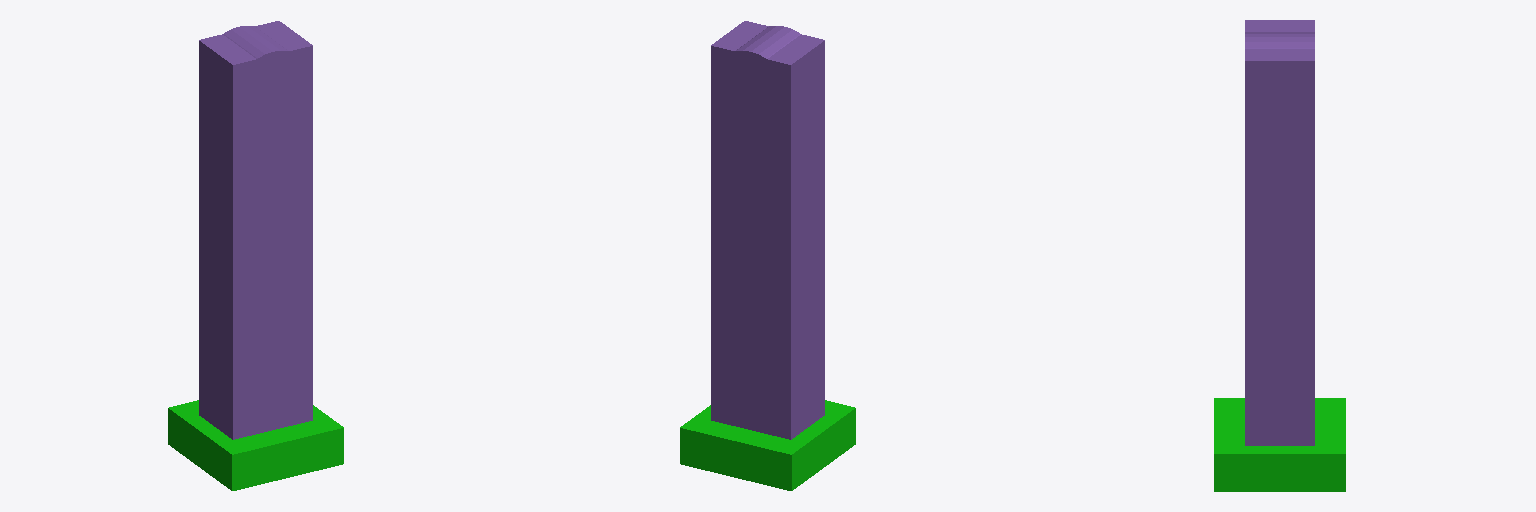
robot.urdf — abondance_finger:
<?xml version='1.0' encoding='utf-8'?>
<robot name="abondance_finger">
  <link name="base_link">
    <visual>
      <origin rpy="0 0 0" xyz="0 0 0.1" />
      <geometry>
        <box size="0.64 0.64 0.2" />
      </geometry>
      <material name="green">
        <color rgba="0.1 0.8 0.1 1.0" />
      </material>
    </visual>
    <collision>
      <origin rpy="0 0 0" xyz="0 0 0.1" />
      <geometry>
        <box size="0.64 0.64 0.2" />
      </geometry>
    </collision>
    <inertial>
      <mass value="0.6" />
      <inertia ixx="1" ixy="0" ixz="0" iyy="1" iyz="0" izz="1" />
    </inertial>
  </link>
  <link name="act0Seg0">
    <visual>
      <origin rpy="0 0 0" xyz="0 0 0.05" />
      <geometry>
        <box size="0.46 0.34 0.2" />
      </geometry>
      <material name="purple">
        <color rgba="0.537255 0.407843 0.690196 1.0" />
      </material>
    </visual>
    <collision>
      <origin rpy="0 0 0" xyz="0 0 0.05" />
      <geometry>
        <box size="0.46 0.34 0.2" />
      </geometry>
    </collision>
    <inertial>
      <mass value="0.00294" />
      <inertia ixx="0.0152488" ixy="0" ixz="0" iyy="0.0152488" iyz="0" izz="0.0152488" />
    </inertial>
  </link>
  <joint name="base_link_to_act0Seg0" type="fixed">
    <parent link="base_link" />
    <child link="act0Seg0" />
    <origin rpy="0 0 0" xyz="0 0 0.2" />
    <axis xyz="1 0 0" />
  </joint>
  <link name="act0Seg0helper_shape">
    <visual>
      <origin rpy="0 -1.5707963267948966 0" xyz="0 0 0.06" />
      <geometry>
        <cylinder length="0.46" radius="0.17" />
      </geometry>
      <material name="purple">
        <color rgba="0.537255 0.407843 0.690196 1.0" />
      </material>
    </visual>
    <collision>
      <origin rpy="0 -1.5707963267948966 0" xyz="0 0 0.06" />
      <geometry>
        <cylinder length="0.46" radius="0.17" />
      </geometry>
    </collision>
    <inertial>
      <mass value="2.94e-06" />
      <inertia ixx="1.52488e-05" ixy="0.0" ixz="0.0" iyy="1.52488e-05" iyz="0.0" izz="1.52488e-05" />
    </inertial>
  </link>
  <joint name="base_link_to_act0Seg0helper_shape" type="fixed">
    <parent link="base_link" />
    <child link="act0Seg0helper_shape" />
    <origin rpy="0 0 0" xyz="0 0 0.2" />
    <axis xyz="1 0 0" />
  </joint>
  <link name="act0Seg1">
    <visual>
      <origin rpy="0.0 0.0 0.0" xyz="0.0 -0.12 0.1" />
      <geometry>
        <box size="0.46 0.34 0.2" />
      </geometry>
      <material name="purple">
        <color rgba="0.537255 0.407843 0.690196 1.0" />
      </material>
    </visual>
    <collision>
      <origin rpy="0.0 0.0 0.0" xyz="0.0 -0.12 0.1" />
      <geometry>
        <box size="0.46 0.34 0.2" />
      </geometry>
    </collision>
    <inertial>
      <mass value="0.00294" />
      <inertia ixx="0.0152488" ixy="0" ixz="0" iyy="0.0152488" iyz="0" izz="0.0152488" />
    </inertial>
  </link>
  <joint name="act0Seg0_to_act0Seg1_ax0" type="revolute">
    <parent link="act0Seg0" />
    <child link="act0Seg1" />
    <origin rpy="0.0 0.0 0.0" xyz="0.0 0.12 0.1" />
    <axis xyz="1 0 0" />
    <limit effort="100" lower="-3.141592" upper="3.141592" velocity="3" />
  </joint>
  <link name="act0Seg1helper_shape">
    <visual>
      <origin rpy="0 -1.5707963267948966 0" xyz="0 0 0.06" />
      <geometry>
        <cylinder length="0.46" radius="0.17" />
      </geometry>
      <material name="purple">
        <color rgba="0.537255 0.407843 0.690196 1.0" />
      </material>
    </visual>
    <collision>
      <origin rpy="0 -1.5707963267948966 0" xyz="0 0 0.06" />
      <geometry>
        <cylinder length="0.46" radius="0.17" />
      </geometry>
    </collision>
    <inertial>
      <mass value="2.94e-06" />
      <inertia ixx="1.52488e-05" ixy="0.0" ixz="0.0" iyy="1.52488e-05" iyz="0.0" izz="1.52488e-05" />
    </inertial>
  </link>
  <joint name="act0Seg0_to_act0Seg1_ax0helper_shape" type="fixed">
    <parent link="act0Seg0" />
    <child link="act0Seg1helper_shape" />
    <origin rpy="0 0 0" xyz="0 0 0.1" />
    <axis xyz="1 0 0" />
  </joint>
  <link name="act0Seg2">
    <visual>
      <origin rpy="0 0 0" xyz="0 0 0.1" />
      <geometry>
        <box size="0.46 0.34 0.2" />
      </geometry>
      <material name="purple">
        <color rgba="0.537255 0.407843 0.690196 1.0" />
      </material>
    </visual>
    <collision>
      <origin rpy="0 0 0" xyz="0 0 0.1" />
      <geometry>
        <box size="0.46 0.34 0.2" />
      </geometry>
    </collision>
    <inertial>
      <mass value="0.00294" />
      <inertia ixx="0.0152488" ixy="0" ixz="0" iyy="0.0152488" iyz="0" izz="0.0152488" />
    </inertial>
  </link>
  <joint name="act0Seg1_to_act0Seg2_ax1" type="revolute">
    <parent link="act0Seg1" />
    <child link="act0Seg2" />
    <origin rpy="0.0 0.0 0.0" xyz="0.0 -0.12 0.2" />
    <axis xyz="0 1 0" />
    <limit effort="100" lower="-3.141592" upper="3.141592" velocity="3" />
  </joint>
  <link name="act0Seg2helper_shape">
    <visual>
      <origin rpy="-1.5707963267948966 0 0" xyz="0 0 -0.06" />
      <geometry>
        <cylinder length="0.34" radius="0.23" />
      </geometry>
      <material name="purple">
        <color rgba="0.537255 0.407843 0.690196 1.0" />
      </material>
    </visual>
    <collision>
      <origin rpy="-1.5707963267948966 0 0" xyz="0 0 -0.06" />
      <geometry>
        <cylinder length="0.34" radius="0.23" />
      </geometry>
    </collision>
    <inertial>
      <mass value="2.94e-06" />
      <inertia ixx="1.52488e-05" ixy="0.0" ixz="0.0" iyy="1.52488e-05" iyz="0.0" izz="1.52488e-05" />
    </inertial>
  </link>
  <joint name="act0Seg1_to_act0Seg2_ax1helper_shape" type="fixed">
    <parent link="act0Seg1" />
    <child link="act0Seg2helper_shape" />
    <origin rpy="0.0 0.0 0.0" xyz="0.0 -0.12 0.2" />
    <axis xyz="1 0 0" />
  </joint>
  <link name="act0Seg3">
    <visual>
      <origin rpy="0.0 0.0 0.0" xyz="0.0 -0.12 0.1" />
      <geometry>
        <box size="0.46 0.34 0.2" />
      </geometry>
      <material name="purple">
        <color rgba="0.537255 0.407843 0.690196 1.0" />
      </material>
    </visual>
    <collision>
      <origin rpy="0.0 0.0 0.0" xyz="0.0 -0.12 0.1" />
      <geometry>
        <box size="0.46 0.34 0.2" />
      </geometry>
    </collision>
    <inertial>
      <mass value="0.00294" />
      <inertia ixx="0.0152488" ixy="0" ixz="0" iyy="0.0152488" iyz="0" izz="0.0152488" />
    </inertial>
  </link>
  <joint name="act0Seg2_to_act0Seg3_ax0" type="revolute">
    <parent link="act0Seg2" />
    <child link="act0Seg3" />
    <origin rpy="0.0 0.0 0.0" xyz="0.0 0.12 0.2" />
    <axis xyz="1 0 0" />
    <limit effort="100" lower="-3.141592" upper="3.141592" velocity="3" />
  </joint>
  <link name="act0Seg3helper_shape">
    <visual>
      <origin rpy="0 -1.5707963267948966 0" xyz="0 0 0.06" />
      <geometry>
        <cylinder length="0.46" radius="0.17" />
      </geometry>
      <material name="purple">
        <color rgba="0.537255 0.407843 0.690196 1.0" />
      </material>
    </visual>
    <collision>
      <origin rpy="0 -1.5707963267948966 0" xyz="0 0 0.06" />
      <geometry>
        <cylinder length="0.46" radius="0.17" />
      </geometry>
    </collision>
    <inertial>
      <mass value="2.94e-06" />
      <inertia ixx="1.52488e-05" ixy="0.0" ixz="0.0" iyy="1.52488e-05" iyz="0.0" izz="1.52488e-05" />
    </inertial>
  </link>
  <joint name="act0Seg2_to_act0Seg3_ax0helper_shape" type="fixed">
    <parent link="act0Seg2" />
    <child link="act0Seg3helper_shape" />
    <origin rpy="0 0 0" xyz="0 0 0.2" />
    <axis xyz="1 0 0" />
  </joint>
  <link name="act0Seg4">
    <visual>
      <origin rpy="0 0 0" xyz="0 0 0.1" />
      <geometry>
        <box size="0.46 0.34 0.2" />
      </geometry>
      <material name="purple">
        <color rgba="0.537255 0.407843 0.690196 1.0" />
      </material>
    </visual>
    <collision>
      <origin rpy="0 0 0" xyz="0 0 0.1" />
      <geometry>
        <box size="0.46 0.34 0.2" />
      </geometry>
    </collision>
    <inertial>
      <mass value="0.00294" />
      <inertia ixx="0.0152488" ixy="0" ixz="0" iyy="0.0152488" iyz="0" izz="0.0152488" />
    </inertial>
  </link>
  <joint name="act0Seg3_to_act0Seg4_ax1" type="revolute">
    <parent link="act0Seg3" />
    <child link="act0Seg4" />
    <origin rpy="0.0 0.0 0.0" xyz="0.0 -0.12 0.2" />
    <axis xyz="0 1 0" />
    <limit effort="100" lower="-3.141592" upper="3.141592" velocity="3" />
  </joint>
  <link name="act0Seg4helper_shape">
    <visual>
      <origin rpy="-1.5707963267948966 0 0" xyz="0 0 -0.06" />
      <geometry>
        <cylinder length="0.34" radius="0.23" />
      </geometry>
      <material name="purple">
        <color rgba="0.537255 0.407843 0.690196 1.0" />
      </material>
    </visual>
    <collision>
      <origin rpy="-1.5707963267948966 0 0" xyz="0 0 -0.06" />
      <geometry>
        <cylinder length="0.34" radius="0.23" />
      </geometry>
    </collision>
    <inertial>
      <mass value="2.94e-06" />
      <inertia ixx="1.52488e-05" ixy="0.0" ixz="0.0" iyy="1.52488e-05" iyz="0.0" izz="1.52488e-05" />
    </inertial>
  </link>
  <joint name="act0Seg3_to_act0Seg4_ax1helper_shape" type="fixed">
    <parent link="act0Seg3" />
    <child link="act0Seg4helper_shape" />
    <origin rpy="0.0 0.0 0.0" xyz="0.0 -0.12 0.2" />
    <axis xyz="1 0 0" />
  </joint>
  <link name="act0Seg5">
    <visual>
      <origin rpy="0.0 0.0 0.0" xyz="0.0 -0.12 0.1" />
      <geometry>
        <box size="0.46 0.34 0.2" />
      </geometry>
      <material name="purple">
        <color rgba="0.537255 0.407843 0.690196 1.0" />
      </material>
    </visual>
    <collision>
      <origin rpy="0.0 0.0 0.0" xyz="0.0 -0.12 0.1" />
      <geometry>
        <box size="0.46 0.34 0.2" />
      </geometry>
    </collision>
    <inertial>
      <mass value="0.00294" />
      <inertia ixx="0.0152488" ixy="0" ixz="0" iyy="0.0152488" iyz="0" izz="0.0152488" />
    </inertial>
  </link>
  <joint name="act0Seg4_to_act0Seg5_ax0" type="revolute">
    <parent link="act0Seg4" />
    <child link="act0Seg5" />
    <origin rpy="0.0 0.0 0.0" xyz="0.0 0.12 0.2" />
    <axis xyz="1 0 0" />
    <limit effort="100" lower="-3.141592" upper="3.141592" velocity="3" />
  </joint>
  <link name="act0Seg5helper_shape">
    <visual>
      <origin rpy="0 -1.5707963267948966 0" xyz="0 0 0.06" />
      <geometry>
        <cylinder length="0.46" radius="0.17" />
      </geometry>
      <material name="purple">
        <color rgba="0.537255 0.407843 0.690196 1.0" />
      </material>
    </visual>
    <collision>
      <origin rpy="0 -1.5707963267948966 0" xyz="0 0 0.06" />
      <geometry>
        <cylinder length="0.46" radius="0.17" />
      </geometry>
    </collision>
    <inertial>
      <mass value="2.94e-06" />
      <inertia ixx="1.52488e-05" ixy="0.0" ixz="0.0" iyy="1.52488e-05" iyz="0.0" izz="1.52488e-05" />
    </inertial>
  </link>
  <joint name="act0Seg4_to_act0Seg5_ax0helper_shape" type="fixed">
    <parent link="act0Seg4" />
    <child link="act0Seg5helper_shape" />
    <origin rpy="0 0 0" xyz="0 0 0.2" />
    <axis xyz="1 0 0" />
  </joint>
  <link name="act0Seg6">
    <visual>
      <origin rpy="0 0 0" xyz="0 0 0.1" />
      <geometry>
        <box size="0.46 0.34 0.2" />
      </geometry>
      <material name="purple">
        <color rgba="0.537255 0.407843 0.690196 1.0" />
      </material>
    </visual>
    <collision>
      <origin rpy="0 0 0" xyz="0 0 0.1" />
      <geometry>
        <box size="0.46 0.34 0.2" />
      </geometry>
    </collision>
    <inertial>
      <mass value="0.00294" />
      <inertia ixx="0.0152488" ixy="0" ixz="0" iyy="0.0152488" iyz="0" izz="0.0152488" />
    </inertial>
  </link>
  <joint name="act0Seg5_to_act0Seg6_ax1" type="revolute">
    <parent link="act0Seg5" />
    <child link="act0Seg6" />
    <origin rpy="0.0 0.0 0.0" xyz="0.0 -0.12 0.2" />
    <axis xyz="0 1 0" />
    <limit effort="100" lower="-3.141592" upper="3.141592" velocity="3" />
  </joint>
  <link name="act0Seg6helper_shape">
    <visual>
      <origin rpy="-1.5707963267948966 0 0" xyz="0 0 -0.06" />
      <geometry>
        <cylinder length="0.34" radius="0.23" />
      </geometry>
      <material name="purple">
        <color rgba="0.537255 0.407843 0.690196 1.0" />
      </material>
    </visual>
    <collision>
      <origin rpy="-1.5707963267948966 0 0" xyz="0 0 -0.06" />
      <geometry>
        <cylinder length="0.34" radius="0.23" />
      </geometry>
    </collision>
    <inertial>
      <mass value="2.94e-06" />
      <inertia ixx="1.52488e-05" ixy="0.0" ixz="0.0" iyy="1.52488e-05" iyz="0.0" izz="1.52488e-05" />
    </inertial>
  </link>
  <joint name="act0Seg5_to_act0Seg6_ax1helper_shape" type="fixed">
    <parent link="act0Seg5" />
    <child link="act0Seg6helper_shape" />
    <origin rpy="0.0 0.0 0.0" xyz="0.0 -0.12 0.2" />
    <axis xyz="1 0 0" />
  </joint>
  <link name="act0Seg7">
    <visual>
      <origin rpy="0.0 0.0 0.0" xyz="0.0 -0.12 0.1" />
      <geometry>
        <box size="0.46 0.34 0.2" />
      </geometry>
      <material name="purple">
        <color rgba="0.537255 0.407843 0.690196 1.0" />
      </material>
    </visual>
    <collision>
      <origin rpy="0.0 0.0 0.0" xyz="0.0 -0.12 0.1" />
      <geometry>
        <box size="0.46 0.34 0.2" />
      </geometry>
    </collision>
    <inertial>
      <mass value="0.00294" />
      <inertia ixx="0.0152488" ixy="0" ixz="0" iyy="0.0152488" iyz="0" izz="0.0152488" />
    </inertial>
  </link>
  <joint name="act0Seg6_to_act0Seg7_ax0" type="revolute">
    <parent link="act0Seg6" />
    <child link="act0Seg7" />
    <origin rpy="0.0 0.0 0.0" xyz="0.0 0.12 0.2" />
    <axis xyz="1 0 0" />
    <limit effort="100" lower="-3.141592" upper="3.141592" velocity="3" />
  </joint>
  <link name="act0Seg7helper_shape">
    <visual>
      <origin rpy="0 -1.5707963267948966 0" xyz="0 0 0.06" />
      <geometry>
        <cylinder length="0.46" radius="0.17" />
      </geometry>
      <material name="purple">
        <color rgba="0.537255 0.407843 0.690196 1.0" />
      </material>
    </visual>
    <collision>
      <origin rpy="0 -1.5707963267948966 0" xyz="0 0 0.06" />
      <geometry>
        <cylinder length="0.46" radius="0.17" />
      </geometry>
    </collision>
    <inertial>
      <mass value="2.94e-06" />
      <inertia ixx="1.52488e-05" ixy="0.0" ixz="0.0" iyy="1.52488e-05" iyz="0.0" izz="1.52488e-05" />
    </inertial>
  </link>
  <joint name="act0Seg6_to_act0Seg7_ax0helper_shape" type="fixed">
    <parent link="act0Seg6" />
    <child link="act0Seg7helper_shape" />
    <origin rpy="0 0 0" xyz="0 0 0.2" />
    <axis xyz="1 0 0" />
  </joint>
  <link name="act0Seg8">
    <visual>
      <origin rpy="0 0 0" xyz="0 0 0.1" />
      <geometry>
        <box size="0.46 0.34 0.2" />
      </geometry>
      <material name="purple">
        <color rgba="0.537255 0.407843 0.690196 1.0" />
      </material>
    </visual>
    <collision>
      <origin rpy="0 0 0" xyz="0 0 0.1" />
      <geometry>
        <box size="0.46 0.34 0.2" />
      </geometry>
    </collision>
    <inertial>
      <mass value="0.00294" />
      <inertia ixx="0.0152488" ixy="0" ixz="0" iyy="0.0152488" iyz="0" izz="0.0152488" />
    </inertial>
  </link>
  <joint name="act0Seg7_to_act0Seg8_ax1" type="revolute">
    <parent link="act0Seg7" />
    <child link="act0Seg8" />
    <origin rpy="0.0 0.0 0.0" xyz="0.0 -0.12 0.2" />
    <axis xyz="0 1 0" />
    <limit effort="100" lower="-3.141592" upper="3.141592" velocity="3" />
  </joint>
  <link name="act0Seg8helper_shape">
    <visual>
      <origin rpy="-1.5707963267948966 0 0" xyz="0 0 -0.06" />
      <geometry>
        <cylinder length="0.34" radius="0.23" />
      </geometry>
      <material name="purple">
        <color rgba="0.537255 0.407843 0.690196 1.0" />
      </material>
    </visual>
    <collision>
      <origin rpy="-1.5707963267948966 0 0" xyz="0 0 -0.06" />
      <geometry>
        <cylinder length="0.34" radius="0.23" />
      </geometry>
    </collision>
    <inertial>
      <mass value="2.94e-06" />
      <inertia ixx="1.52488e-05" ixy="0.0" ixz="0.0" iyy="1.52488e-05" iyz="0.0" izz="1.52488e-05" />
    </inertial>
  </link>
  <joint name="act0Seg7_to_act0Seg8_ax1helper_shape" type="fixed">
    <parent link="act0Seg7" />
    <child link="act0Seg8helper_shape" />
    <origin rpy="0.0 0.0 0.0" xyz="0.0 -0.12 0.2" />
    <axis xyz="1 0 0" />
  </joint>
  <link name="act0Seg9">
    <visual>
      <origin rpy="0.0 0.0 0.0" xyz="0.0 -0.12 0.1" />
      <geometry>
        <box size="0.46 0.34 0.2" />
      </geometry>
      <material name="purple">
        <color rgba="0.537255 0.407843 0.690196 1.0" />
      </material>
    </visual>
    <collision>
      <origin rpy="0.0 0.0 0.0" xyz="0.0 -0.12 0.1" />
      <geometry>
        <box size="0.46 0.34 0.2" />
      </geometry>
    </collision>
    <inertial>
      <mass value="0.00294" />
      <inertia ixx="0.0152488" ixy="0" ixz="0" iyy="0.0152488" iyz="0" izz="0.0152488" />
    </inertial>
  </link>
  <joint name="act0Seg8_to_act0Seg9_ax0" type="revolute">
    <parent link="act0Seg8" />
    <child link="act0Seg9" />
    <origin rpy="0.0 0.0 0.0" xyz="0.0 0.12 0.2" />
    <axis xyz="1 0 0" />
    <limit effort="100" lower="-3.141592" upper="3.141592" velocity="3" />
  </joint>
  <link name="act0Seg9helper_shape">
    <visual>
      <origin rpy="0 -1.5707963267948966 0" xyz="0 0 0.06" />
      <geometry>
        <cylinder length="0.46" radius="0.17" />
      </geometry>
      <material name="purple">
        <color rgba="0.537255 0.407843 0.690196 1.0" />
      </material>
    </visual>
    <collision>
      <origin rpy="0 -1.5707963267948966 0" xyz="0 0 0.06" />
      <geometry>
        <cylinder length="0.46" radius="0.17" />
      </geometry>
    </collision>
    <inertial>
      <mass value="2.94e-06" />
      <inertia ixx="1.52488e-05" ixy="0.0" ixz="0.0" iyy="1.52488e-05" iyz="0.0" izz="1.52488e-05" />
    </inertial>
  </link>
  <joint name="act0Seg8_to_act0Seg9_ax0helper_shape" type="fixed">
    <parent link="act0Seg8" />
    <child link="act0Seg9helper_shape" />
    <origin rpy="0 0 0" xyz="0 0 0.2" />
    <axis xyz="1 0 0" />
  </joint>
  <link name="act0Seg10">
    <visual>
      <origin rpy="0 0 0" xyz="0 0 0.05" />
      <geometry>
        <box size="0.46 0.34 0.2" />
      </geometry>
      <material name="purple">
        <color rgba="0.537255 0.407843 0.690196 1.0" />
      </material>
    </visual>
    <collision>
      <origin rpy="0 0 0" xyz="0 0 0.05" />
      <geometry>
        <box size="0.46 0.34 0.2" />
      </geometry>
    </collision>
    <inertial>
      <mass value="0.00294" />
      <inertia ixx="0.0152488" ixy="0" ixz="0" iyy="0.0152488" iyz="0" izz="0.0152488" />
    </inertial>
  </link>
  <joint name="act0Seg9_to_act0Seg10_ax1" type="revolute">
    <parent link="act0Seg9" />
    <child link="act0Seg10" />
    <origin rpy="0.0 0.0 0.0" xyz="0.0 -0.12 0.2" />
    <axis xyz="0 1 0" />
    <limit effort="100" lower="-3.141592" upper="3.141592" velocity="3" />
  </joint>
  <link name="act0Seg10helper_shape">
    <visual>
      <origin rpy="-1.5707963267948966 0 0" xyz="0 0 -0.06" />
      <geometry>
        <cylinder length="0.34" radius="0.23" />
      </geometry>
      <material name="purple">
        <color rgba="0.537255 0.407843 0.690196 1.0" />
      </material>
    </visual>
    <collision>
      <origin rpy="-1.5707963267948966 0 0" xyz="0 0 -0.06" />
      <geometry>
        <cylinder length="0.34" radius="0.23" />
      </geometry>
    </collision>
    <inertial>
      <mass value="2.94e-06" />
      <inertia ixx="1.52488e-05" ixy="0.0" ixz="0.0" iyy="1.52488e-05" iyz="0.0" izz="1.52488e-05" />
    </inertial>
  </link>
  <joint name="act0Seg9_to_act0Seg10_ax1helper_shape" type="fixed">
    <parent link="act0Seg9" />
    <child link="act0Seg10helper_shape" />
    <origin rpy="0.0 0.0 0.0" xyz="0.0 -0.12 0.2" />
    <axis xyz="1 0 0" />
  </joint>
</robot>

--- What the picture shows (computed from the rendered views, not written in the file) ---
Views: 3 orthographic renders of the robot side by side, from view 1: azimuth 30°, elevation 25°; view 2: azimuth 150°, elevation 25°; view 3: azimuth 270°, elevation 25°.
Robot: abondance_finger — 23 links, 22 joints (10 revolute, 12 fixed); root link base_link; default pose: all joints at 0.
Visible links, largest first — view 1: base_link, act0Seg10, act0Seg2helper_shape, act0Seg8helper_shape, act0Seg2, act0Seg8, act0Seg10helper_shape, act0Seg9, act0Seg4, act0Seg6helper_shape, act0Seg3, act0Seg4helper_shape (+5 smaller); view 2: base_link, act0Seg10, act0Seg8, act0Seg2, act0Seg4, act0Seg3, act0Seg9, act0Seg6, act0Seg5, act0Seg7, act0Seg1, act0Seg0 (+8 smaller); view 3: base_link, act0Seg10, act0Seg5, act0Seg4, act0Seg6, act0Seg3, act0Seg2, act0Seg8, act0Seg9, act0Seg1, act0Seg7, act0Seg7helper_shape (+4 smaller).
Boxes of the visible links, x1,y1,x2,y2 form: base_link: (168,400,343,490); act0Seg10: (199,21,312,101); act0Seg2helper_shape: (233,343,312,428); act0Seg8helper_shape: (233,124,312,209); act0Seg2: (199,324,312,384); act0Seg8: (199,105,312,165); act0Seg10helper_shape: (223,26,311,136); act0Seg9: (199,68,312,128); act0Seg4: (199,251,312,311); act0Seg6helper_shape: (233,197,312,282); act0Seg3: (199,288,312,347); act0Seg4helper_shape: (233,271,312,355); base_link: (680,400,855,490); act0Seg10: (711,21,824,100); act0Seg8: (711,105,824,165); act0Seg2: (711,324,824,384); act0Seg4: (711,251,824,311); act0Seg3: (711,288,824,347); act0Seg9: (711,68,824,128); act0Seg6: (711,178,824,238); act0Seg5: (711,214,824,274); act0Seg7: (711,141,824,201); act0Seg1: (711,361,824,416); act0Seg0: (711,388,824,439); base_link: (1214,398,1345,491); act0Seg10: (1245,20,1314,97); act0Seg5: (1245,239,1314,276); act0Seg4: (1245,277,1314,313); act0Seg6: (1245,202,1314,238); act0Seg3: (1245,314,1314,351); act0Seg2: (1245,352,1314,389); act0Seg8: (1245,127,1314,163); act0Seg9: (1245,89,1314,126); act0Seg1: (1245,390,1314,426); act0Seg7: (1245,164,1314,201); act0Seg7helper_shape: (1245,159,1314,220).
Bounding box of the posed robot: 0.64 × 0.64 × 2.27 m (x, y, z).
Geometry: primitives only (box / cylinder / sphere), no mesh files.